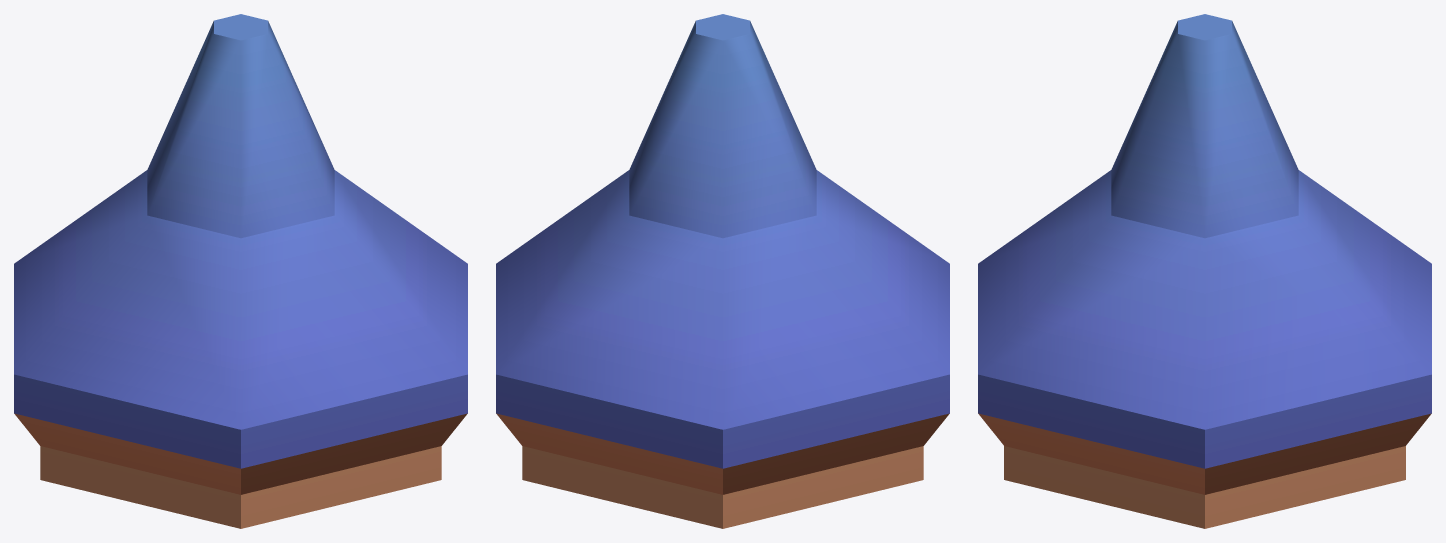
The model's file is kit_tower_hex_roof.glb.
3 renders of one model, left to right at view 1: azimuth 30°, elevation 25°; view 2: azimuth 150°, elevation 25°; view 3: azimuth 270°, elevation 25°, orthographic.
Visible parts, largest first — view 1: tower-hexagon-roof; view 2: tower-hexagon-roof; view 3: tower-hexagon-roof.
Part boxes in pixels (bbox=[...]): tower-hexagon-roof: bbox=[14, 14, 467, 528]; tower-hexagon-roof: bbox=[496, 14, 949, 528]; tower-hexagon-roof: bbox=[978, 14, 1431, 528].
Bounding box in the file's own units: 7.06 × 6 × 6.11.
Materials: 1 (1 with a texture image).
